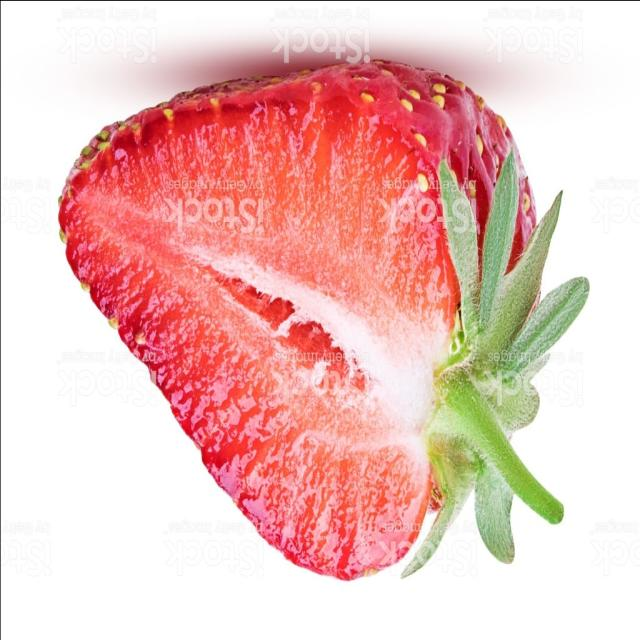strawberry: (46, 26, 606, 579)
